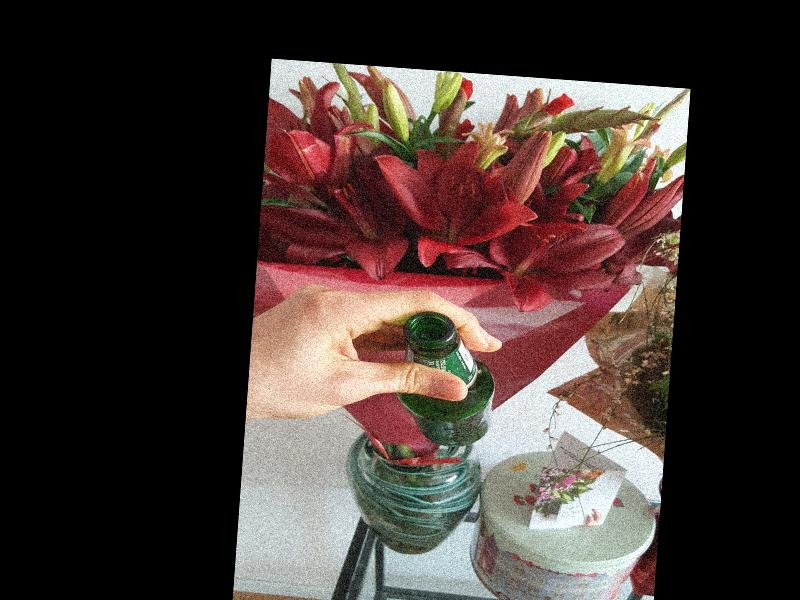Beer: (392, 309, 499, 449)
